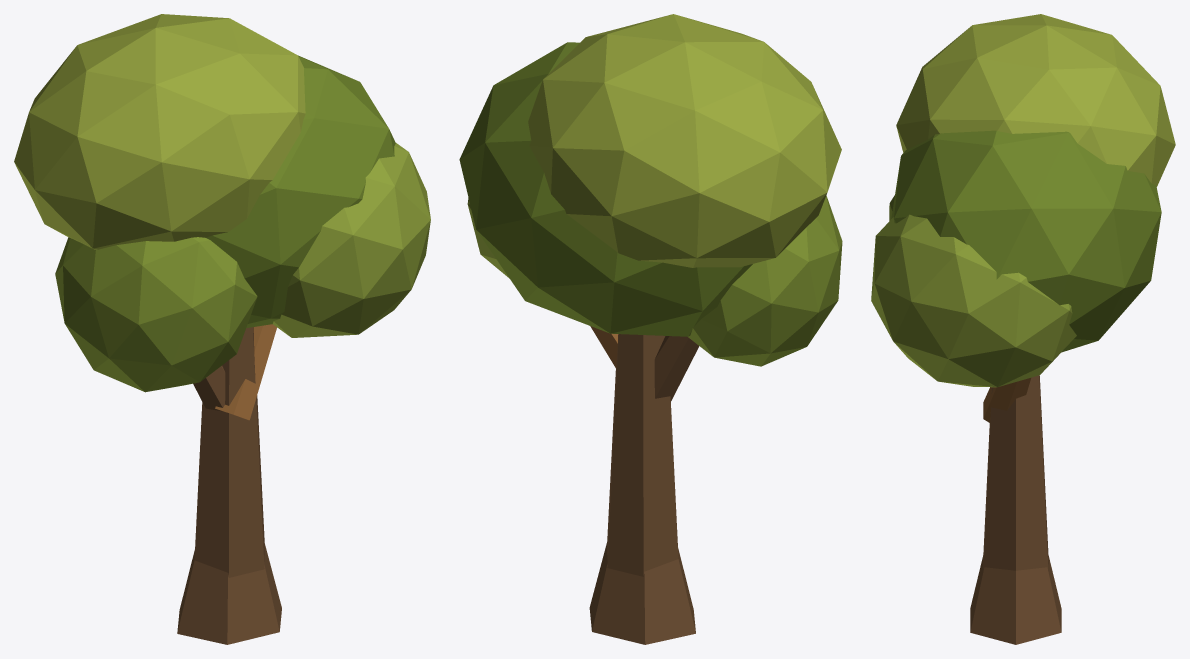
The model's file is tree-canopy-10.gltf.
3 views of the same model, side by side, from view 1: azimuth 30°, elevation 25°; view 2: azimuth 150°, elevation 25°; view 3: azimuth 270°, elevation 25° (orthographic). The views are drawn at different scales.
Visible parts, largest first — view 1: tree-canopy-10; view 2: tree-canopy-10; view 3: tree-canopy-10.
Boxes of the visible parts, x1,y1,x2,y2 form: tree-canopy-10: (14,14,430,644); tree-canopy-10: (459,14,842,644); tree-canopy-10: (871,14,1175,644).
Size of the model in its own units: 1.14 by 1.8 by 0.8724.
